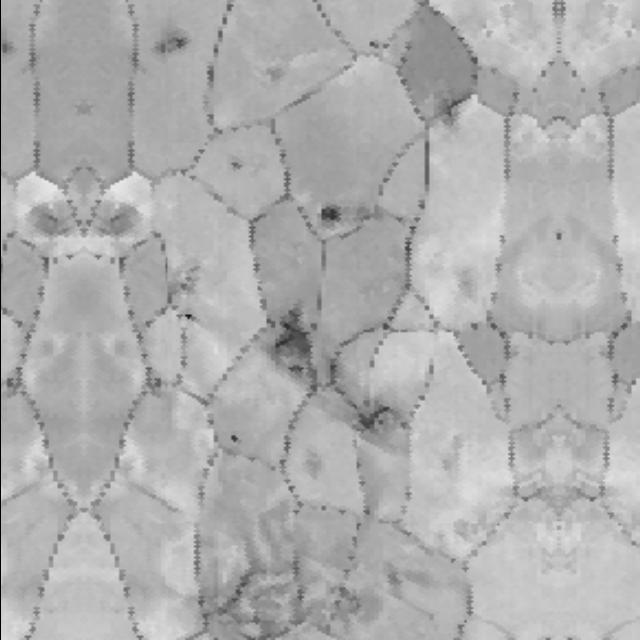good_void: (197, 524, 364, 639), (261, 303, 390, 435), (90, 189, 145, 246), (19, 189, 74, 246), (377, 554, 430, 598), (169, 258, 209, 302), (432, 96, 458, 128), (155, 31, 182, 50), (145, 369, 166, 393), (314, 202, 338, 221), (0, 369, 19, 393), (224, 158, 245, 179), (222, 422, 242, 444), (361, 35, 381, 54), (178, 311, 195, 327), (0, 39, 9, 50)
